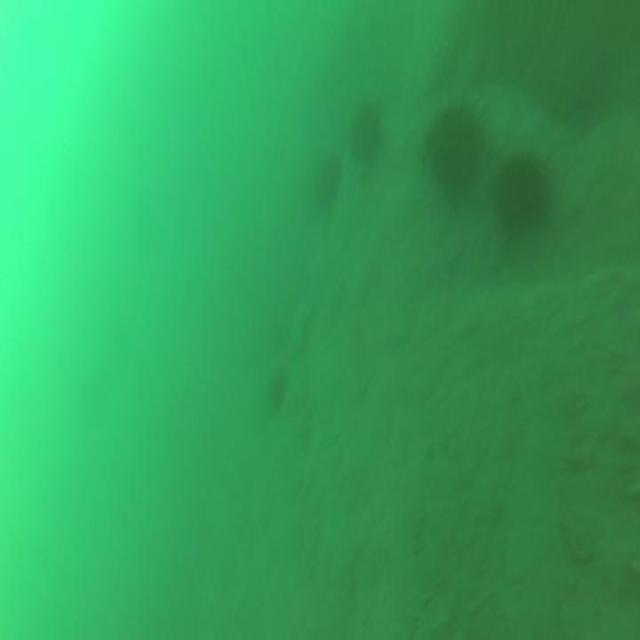echinus: (423, 106, 484, 196), (498, 155, 548, 232), (350, 109, 382, 156), (313, 156, 339, 204), (269, 366, 287, 404)
